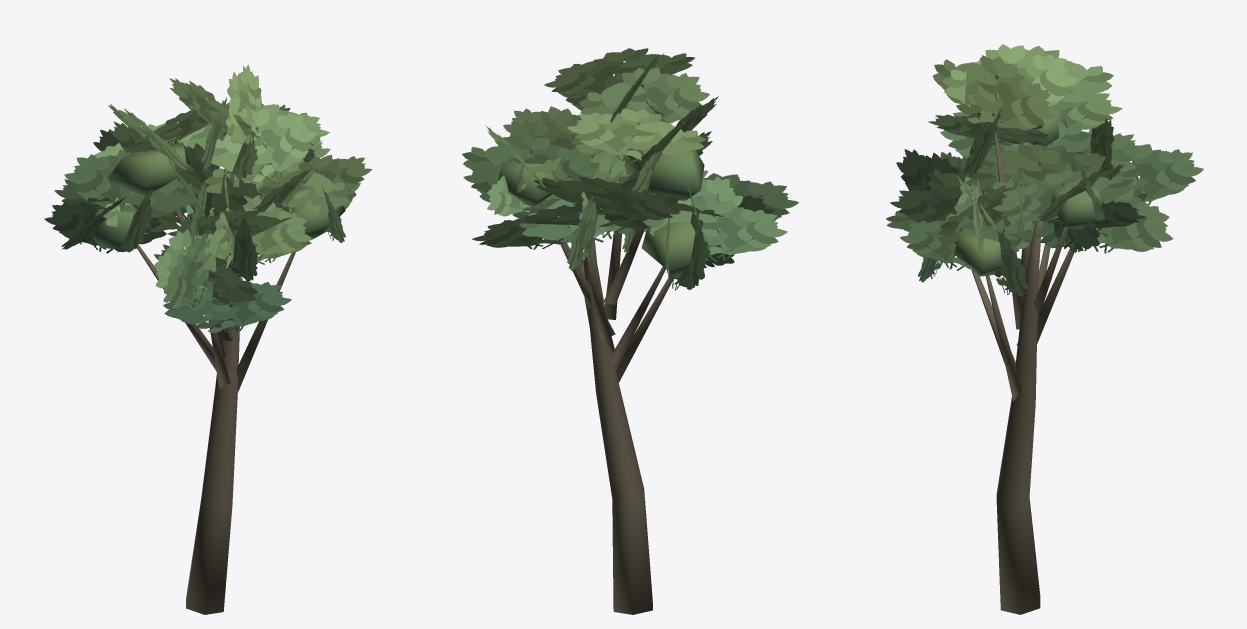
Rendered from canopy-b-far.glb.
3 renders of one model, left to right at view 1: azimuth 30°, elevation 25°; view 2: azimuth 150°, elevation 25°; view 3: azimuth 270°, elevation 25°, orthographic. The views are drawn at different scales.
Visible parts, largest first — view 1: broadleaf-sprays.003, forked-trunk.003, broadleaf-crown-planes.003; view 2: broadleaf-sprays.003, forked-trunk.003, broadleaf-crown-planes.003; view 3: broadleaf-sprays.003, forked-trunk.003, broadleaf-crown-planes.003.
Part boxes in pixels (<box>): broadleaf-sprays.003: <box>44,64,372,334</box>; forked-trunk.003: <box>137,172,295,614</box>; broadleaf-crown-planes.003: <box>89,142,345,248</box>; broadleaf-sprays.003: <box>462,48,798,290</box>; forked-trunk.003: <box>541,193,672,614</box>; broadleaf-crown-planes.003: <box>497,148,712,277</box>; broadleaf-sprays.003: <box>885,44,1203,296</box>; forked-trunk.003: <box>971,134,1074,614</box>; broadleaf-crown-planes.003: <box>954,107,1105,276</box>.
Bounding box in the file's own units: 5.1 × 7.45 × 4.38.
2 materials, 1 textured.
